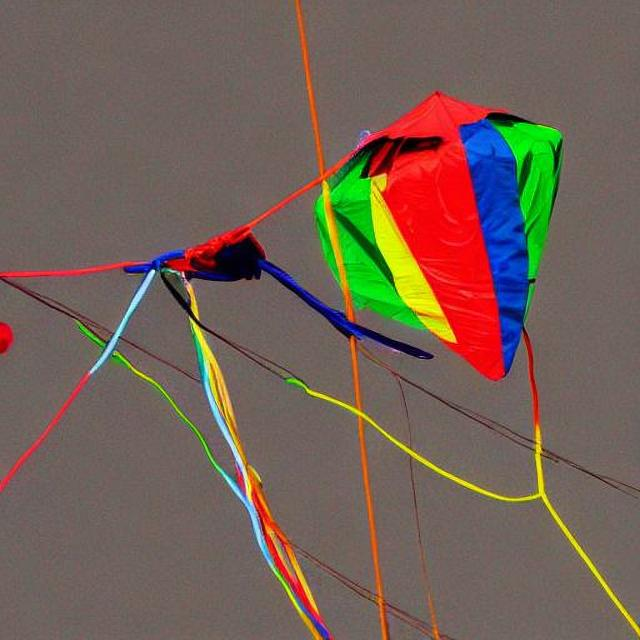floating object: (14, 178, 341, 623), (302, 95, 560, 437)
